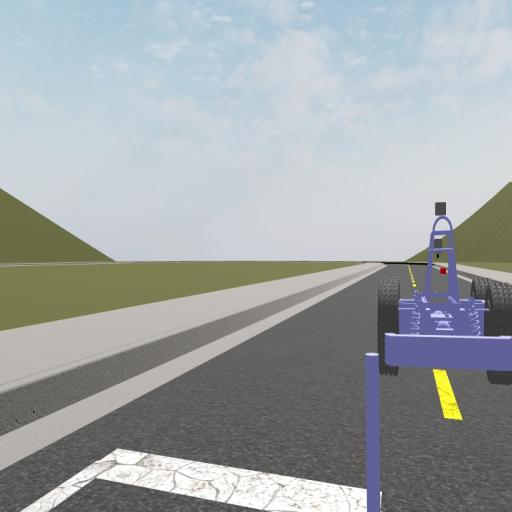ERP-42: (376, 201, 512, 388)
